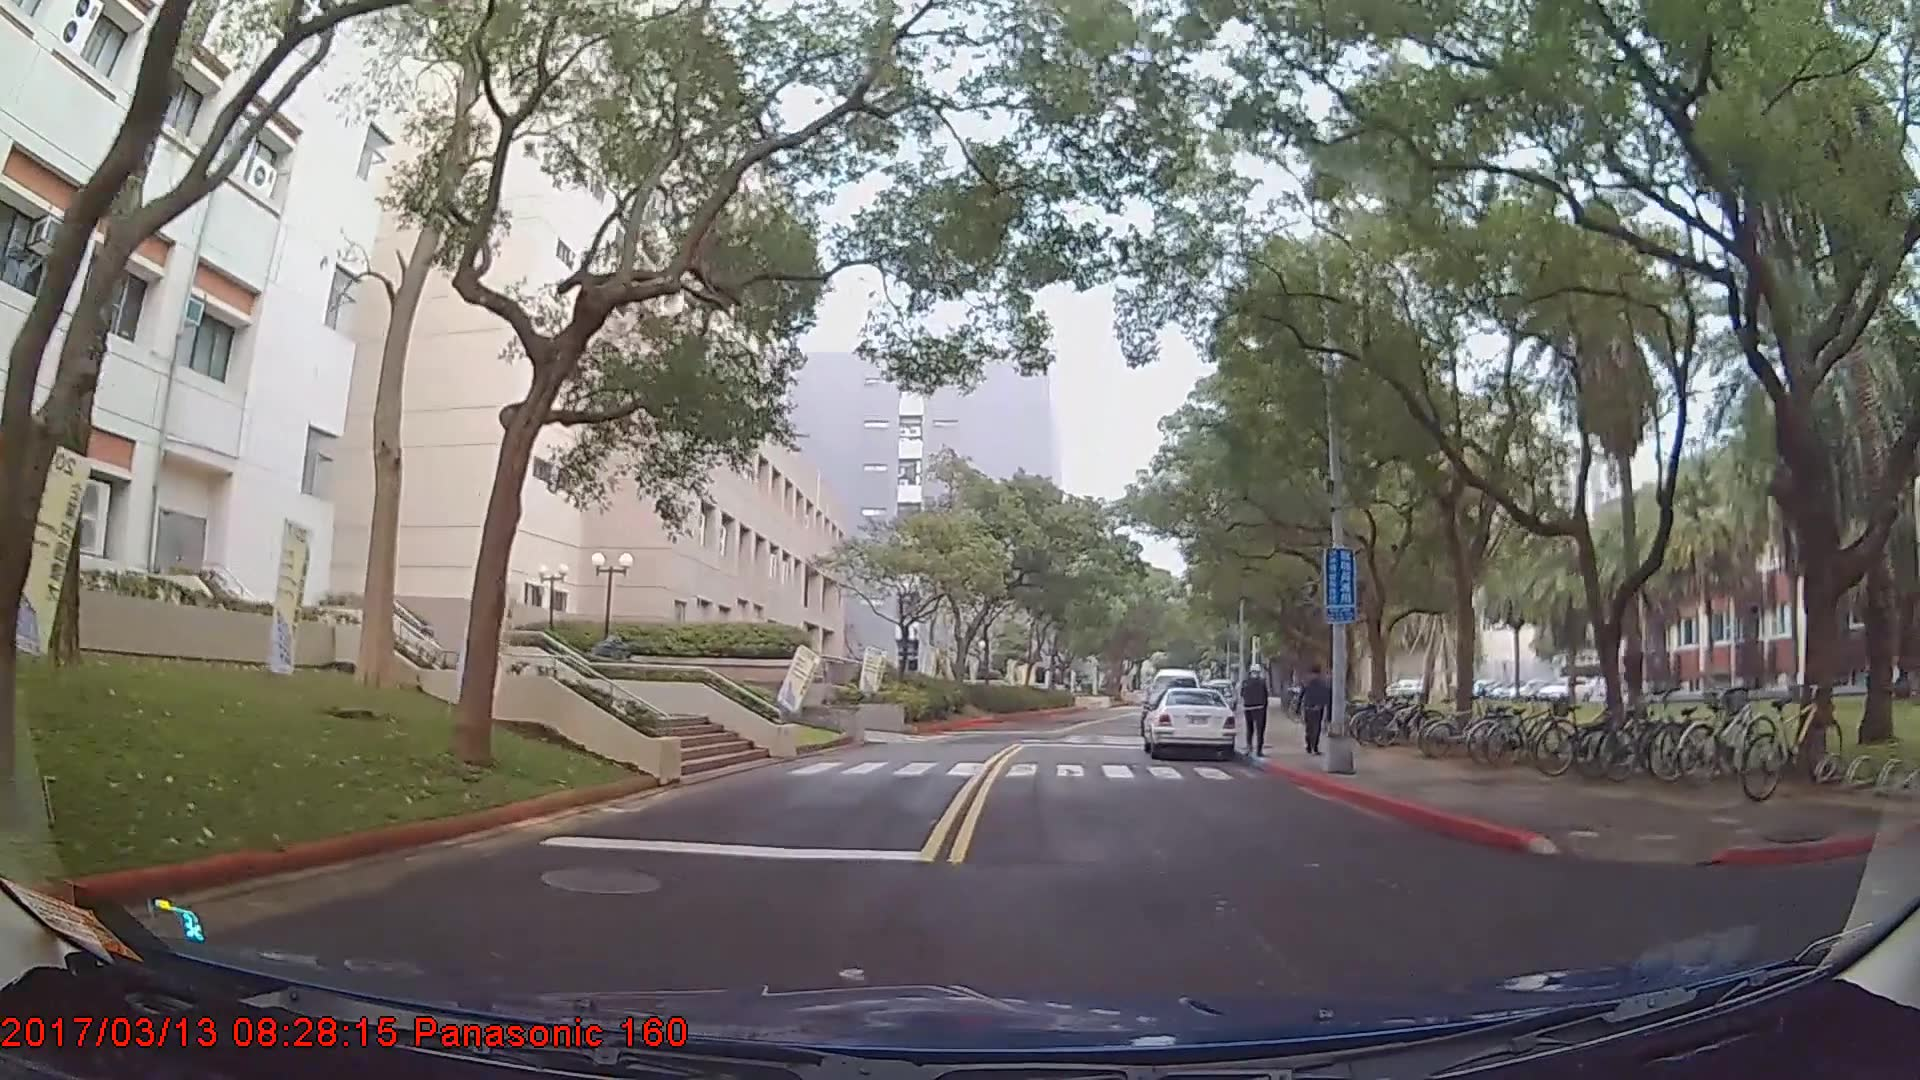pedestrian: (1298, 663, 1337, 756), (1240, 664, 1271, 759)
vehicle: (1138, 684, 1238, 763)
